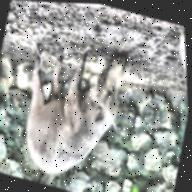boar: (7, 28, 139, 192)
